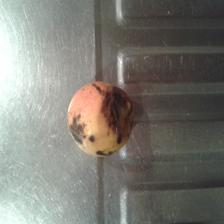Mango Rotten: (59, 78, 139, 159)
